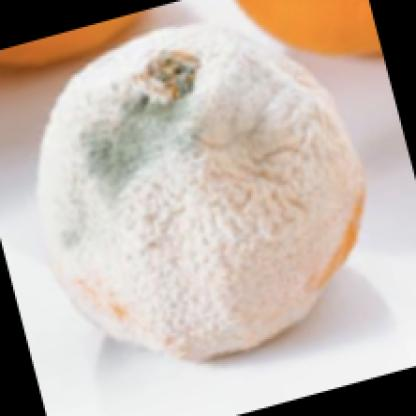rotten: (43, 24, 364, 357)
